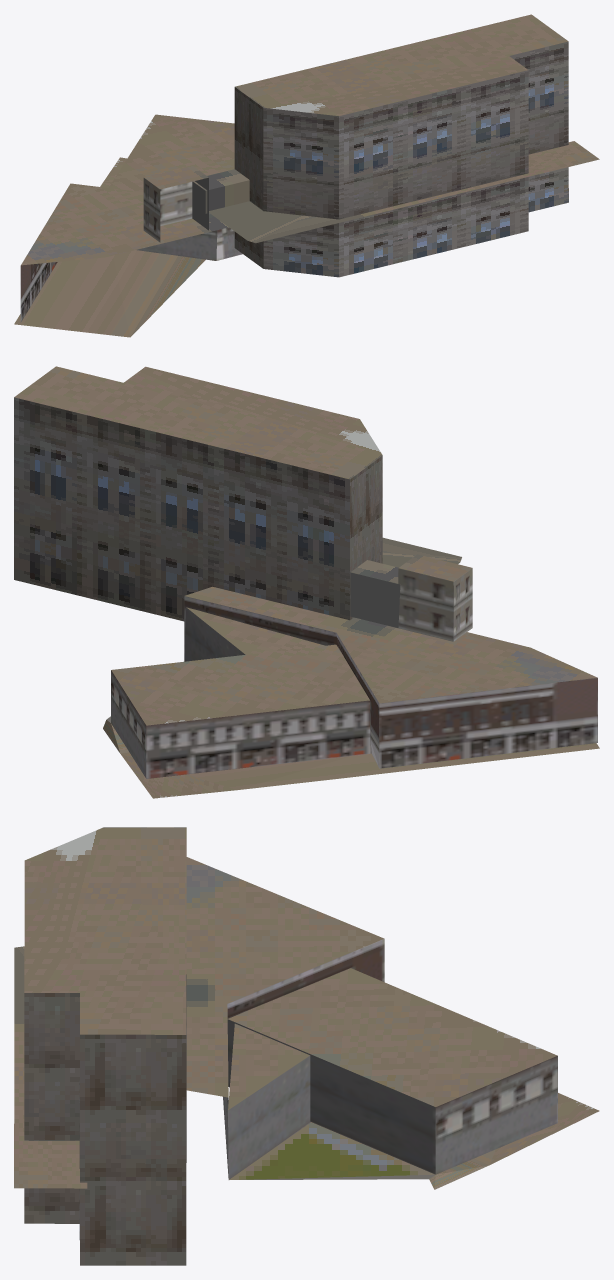
The model's file is loda63.obj.
The picture shows the model from 3 angles, top to bottom: view 1: azimuth 30°, elevation 25°; view 2: azimuth 150°, elevation 25°; view 3: azimuth 270°, elevation 25°; orthographic projection. The views are drawn at different scales.
Visible parts, largest first — view 1: LODA63; view 2: LODA63; view 3: LODA63.
Part boxes in pixels (<box>): LODA63: <box>14,14,599,337</box>; LODA63: <box>14,366,599,798</box>; LODA63: <box>14,827,599,1265</box>.
Size of the model in its own units: 122 by 42.01 by 82.37.
9 materials, 7 textured.
